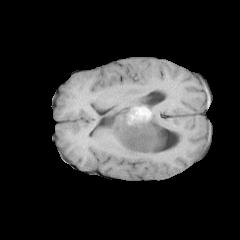glioma: (98, 103, 167, 157)
